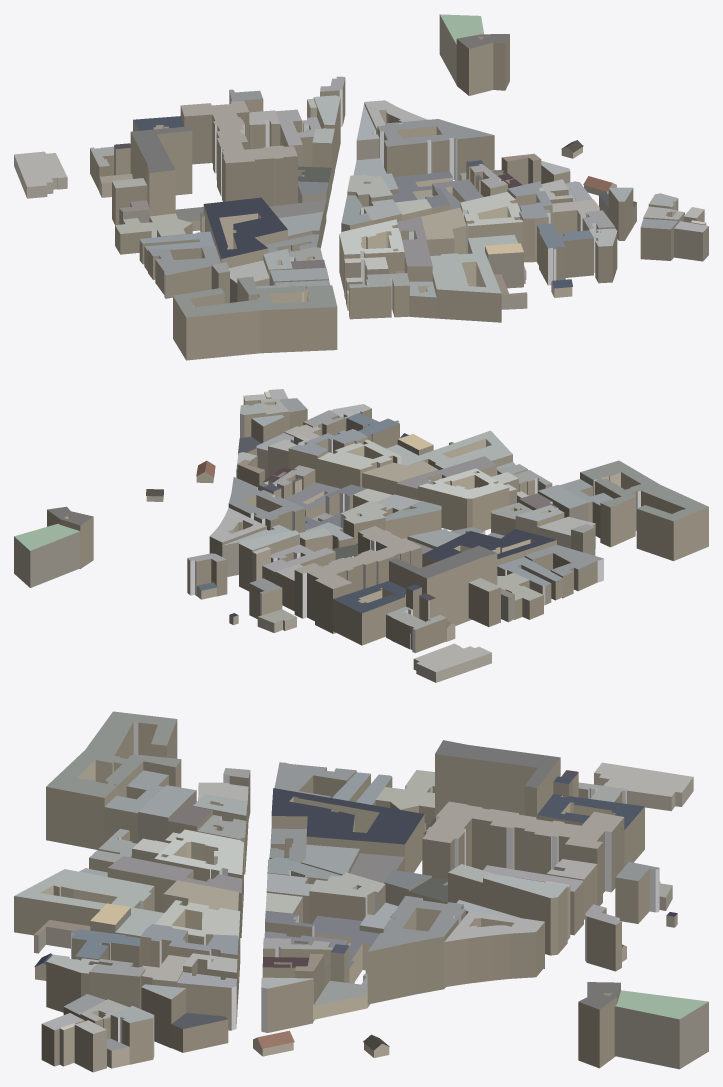
3 views of the same model, one above another, from view 1: azimuth 30°, elevation 25°; view 2: azimuth 150°, elevation 25°; view 3: azimuth 270°, elevation 25° (orthographic). The views are drawn at different scales.
Visible parts, largest first — view 1: tuile; view 2: tuile; view 3: tuile.
Boxes of the visible parts, bbox=[...] form: tuile: bbox=[14, 14, 708, 360]; tuile: bbox=[14, 389, 708, 682]; tuile: bbox=[14, 711, 708, 1072].
Bounding box in the file's own units: 298 × 38.61 × 276.
